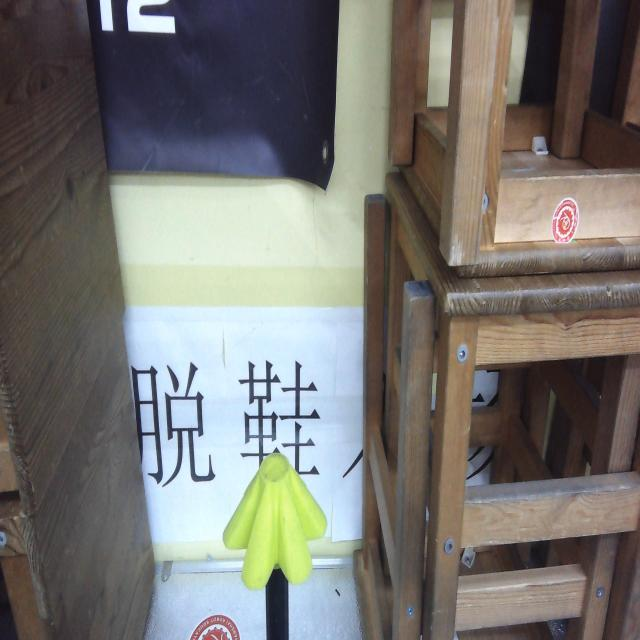Yellow-Stake-Head: (222, 454, 328, 592)
